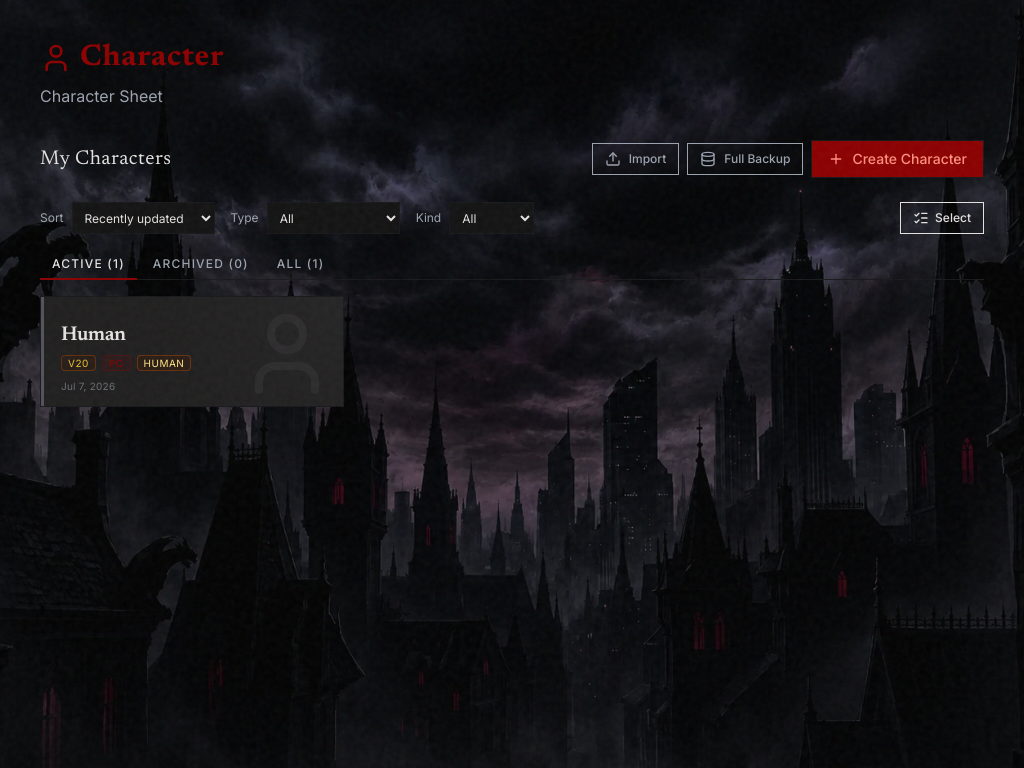
it: Batch BK-2 — create-form regnant selector option filter › shows the empty-state copy when no vampires exist
Click the button with test id "open-create-character" at (898, 159), box [811,140,984,178]
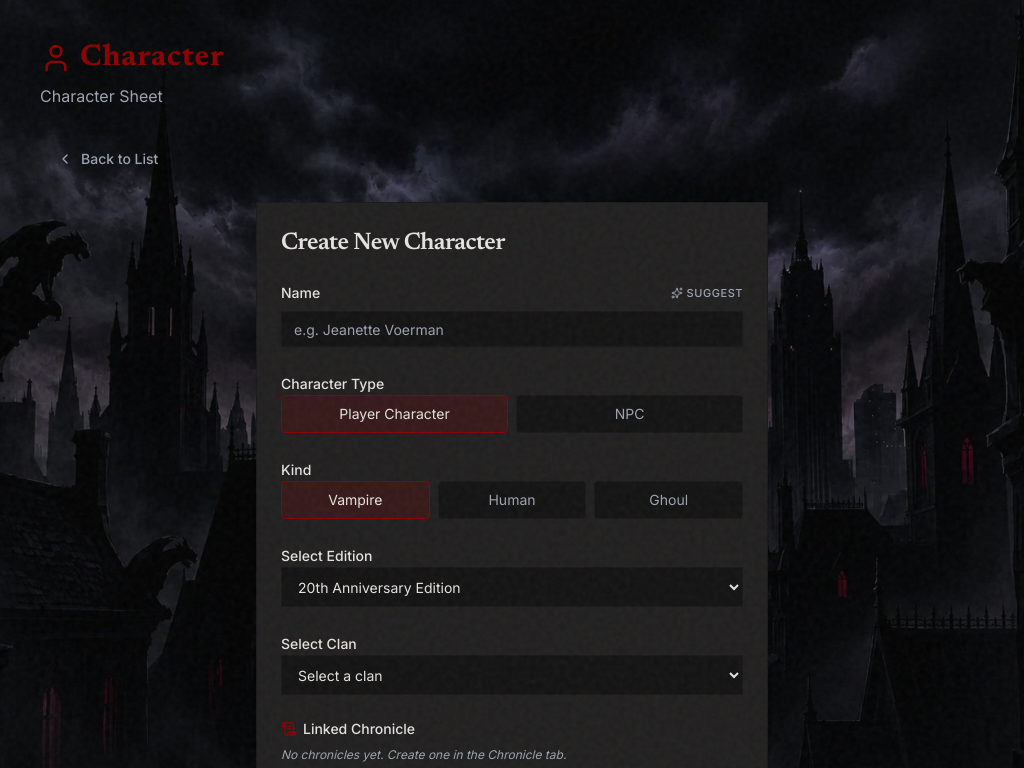
Click the radio button with test id "create-kind-ghoul" at (669, 500), box [594,481,743,519]
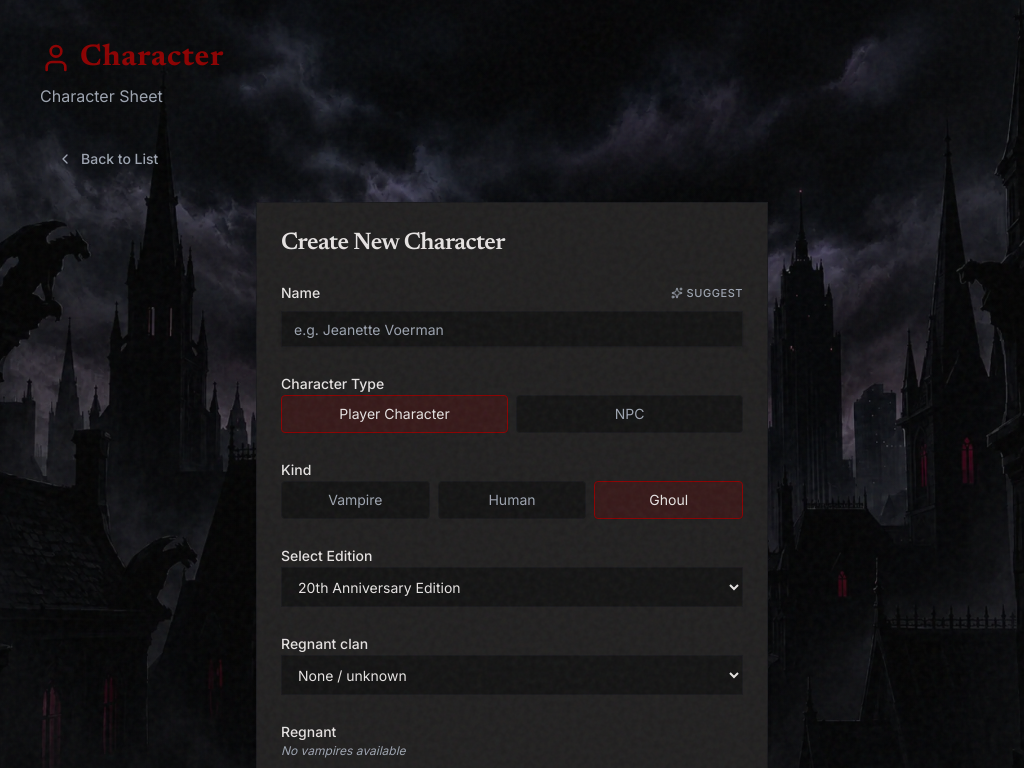
Expected: the text "No vampires available" is shown, [281,743,406,758]
